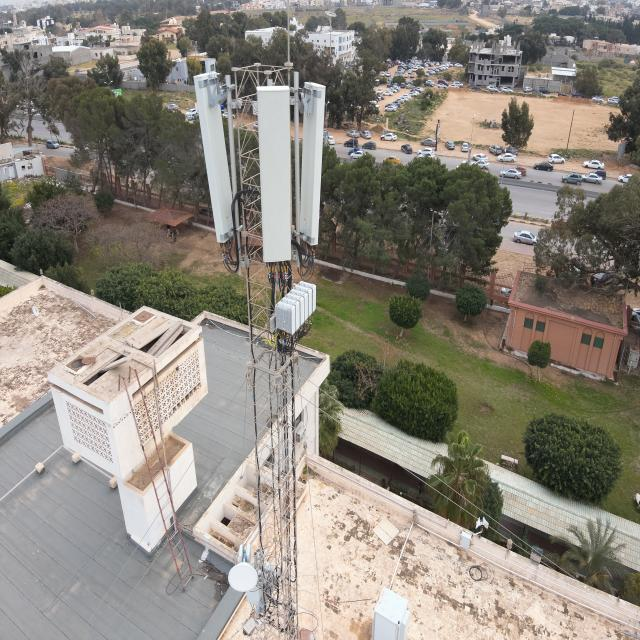antenna: (192, 68, 236, 246), (256, 82, 292, 268), (298, 78, 326, 246)
lighnig-rad: (284, 0, 293, 68)
microware-dish: (228, 545, 258, 594)
power-box: (246, 559, 274, 605)
radio-unit: (276, 279, 316, 334)
